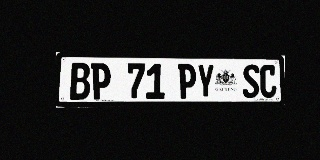1: (146, 63, 165, 99)
7: (126, 63, 145, 99)
B: (70, 63, 90, 100)
C: (260, 64, 276, 98)
P: (91, 63, 111, 100), (178, 64, 196, 99)
S: (243, 64, 259, 98)
Y: (197, 64, 214, 99)
